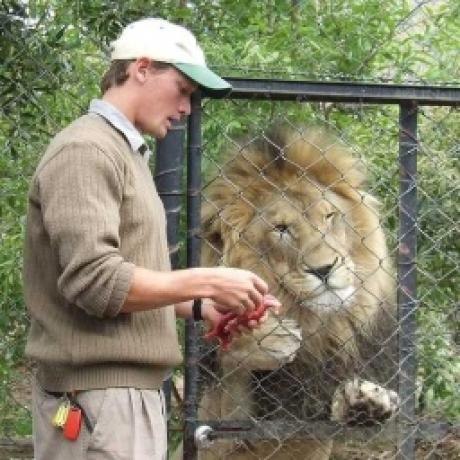Lion: (204, 124, 400, 422)
